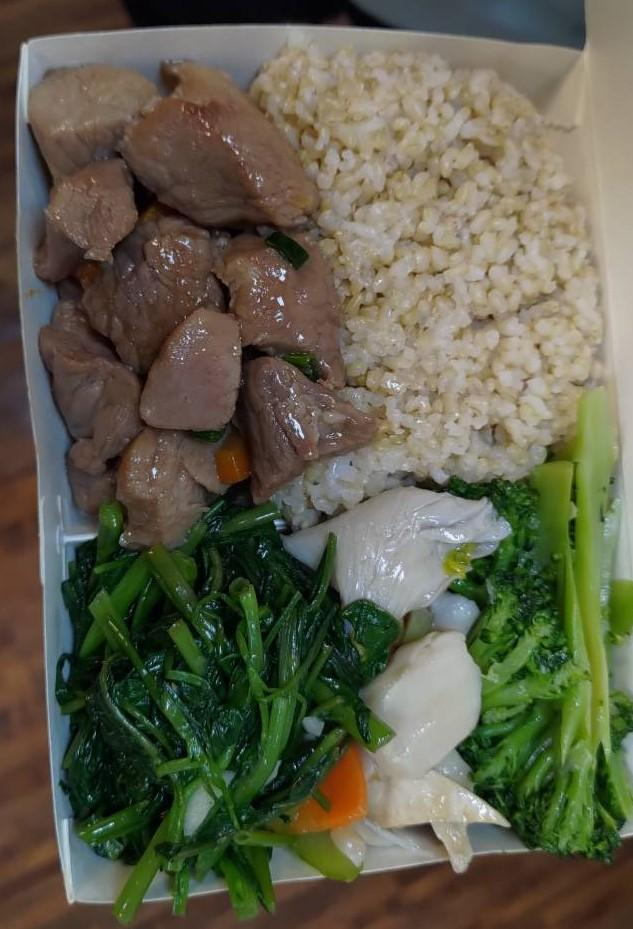big grilled chicken leg: (10, 16, 633, 922)
box: (250, 50, 605, 493)
braised fish fillet: (49, 500, 380, 904), (471, 375, 633, 855), (337, 468, 506, 863)
braised pork: (26, 52, 345, 528)
